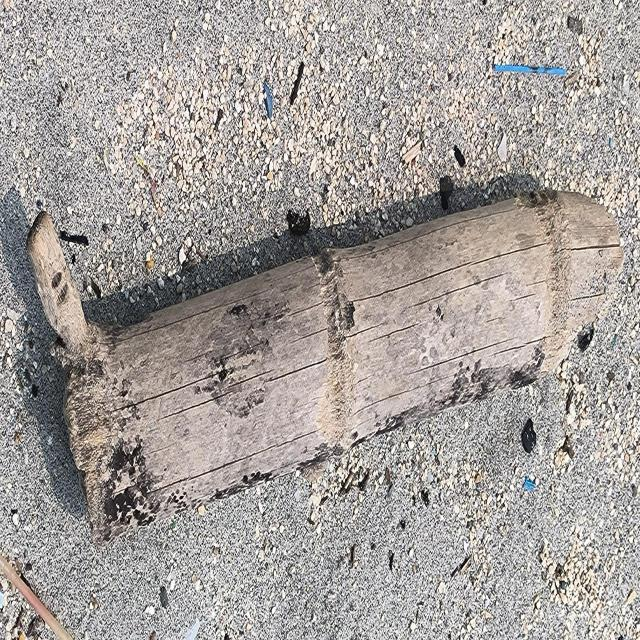plastic_waste: (494, 64, 566, 76)
wood_waste: (25, 180, 628, 548)
